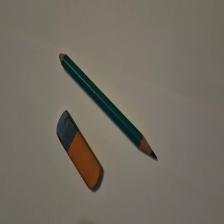eraser: (57, 111, 105, 192)
pencil: (60, 54, 158, 160)
